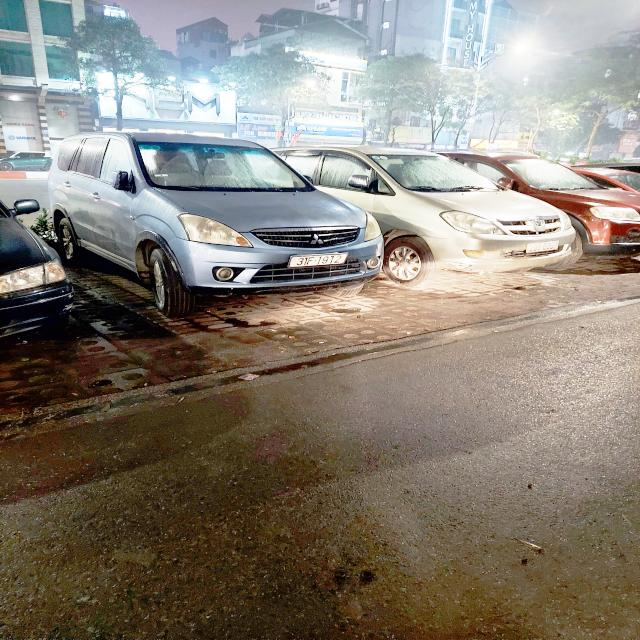license_plate: (285, 253, 353, 271), (525, 240, 562, 255)
